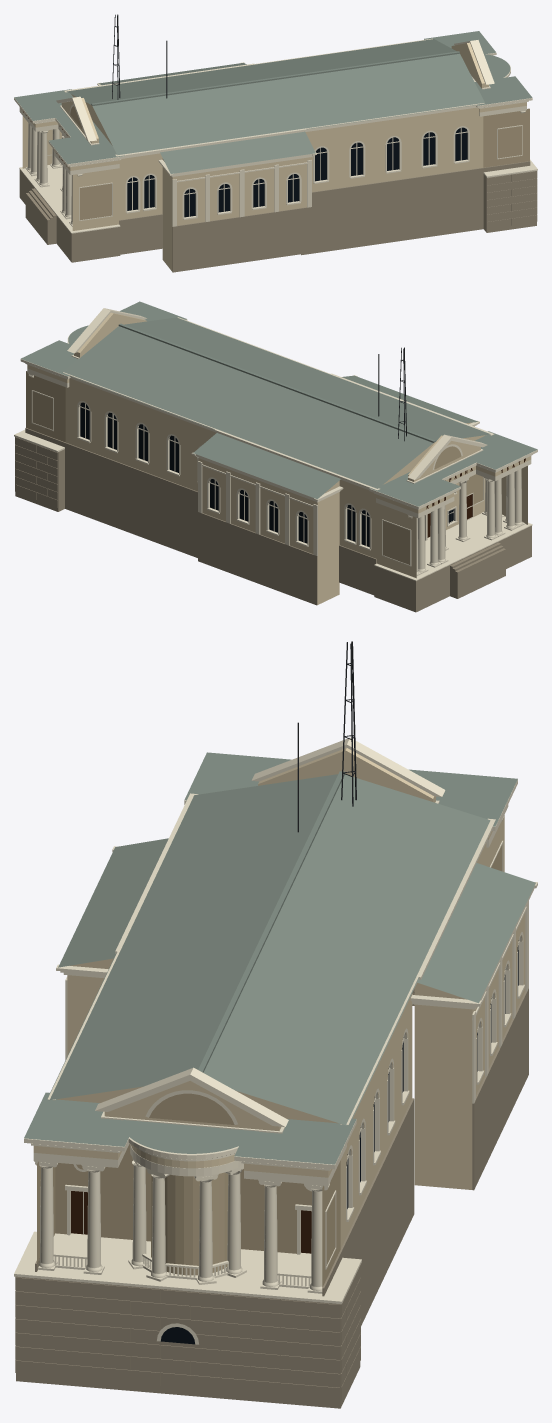
File: kino_ukraina.glb
3 views of the same model, one above another, from view 1: azimuth 30°, elevation 25°; view 2: azimuth 150°, elevation 25°; view 3: azimuth 270°, elevation 25° (orthographic). The views are drawn at different scales.
Parts seen in each view (by area): view 1: kino_ukraina_roof, kino_ukraina_stone, kino_ukraina_wall, kino_ukraina_trim, kino_ukraina_glass, kino_ukraina_wall2, kino_ukraina_trim_s, kino_ukraina_metal; view 2: kino_ukraina_roof, kino_ukraina_stone, kino_ukraina_wall, kino_ukraina_trim, kino_ukraina_wall2, kino_ukraina_trim_s, kino_ukraina_glass, kino_ukraina_metal; view 3: kino_ukraina_roof, kino_ukraina_stone, kino_ukraina_trim, kino_ukraina_wall, kino_ukraina_wall2, kino_ukraina_trim_s, kino_ukraina_metal, kino_ukraina_wood, kino_ukraina_glass.
Part boxes in pixels (x1,y1,x2,y2): kino_ukraina_roof: (14,31,532,173); kino_ukraina_stone: (19,161,537,272); kino_ukraina_wall: (19,42,526,271); kino_ukraina_trim: (14,38,537,233); kino_ukraina_glass: (127,127,467,217); kino_ukraina_wall2: (70,106,529,220); kino_ukraina_trim_s: (28,123,72,221); kino_ukraina_metal: (112,14,167,99); kino_ukraina_roof: (21,301,537,506); kino_ukraina_stone: (15,428,531,612); kino_ukraina_wall: (27,312,531,604); kino_ukraina_trim: (14,308,537,580); kino_ukraina_wall2: (26,371,483,564); kino_ukraina_trim_s: (416,469,521,571); kino_ukraina_glass: (80,402,453,546); kino_ukraina_metal: (378,347,454,523); kino_ukraina_roof: (24,752,535,1164); kino_ukraina_stone: (15,988,528,1408); kino_ukraina_trim: (14,737,537,1344); kino_ukraina_wall: (33,748,525,1248); kino_ukraina_wall2: (37,845,502,1287); kino_ukraina_trim_s: (40,1163,322,1286); kino_ukraina_metal: (297,641,356,832); kino_ukraina_wood: (71,1191,311,1253); kino_ukraina_glass: (160,940,518,1344).
Bounding box in the file's own units: 61.26 × 29.6 × 32.6.
